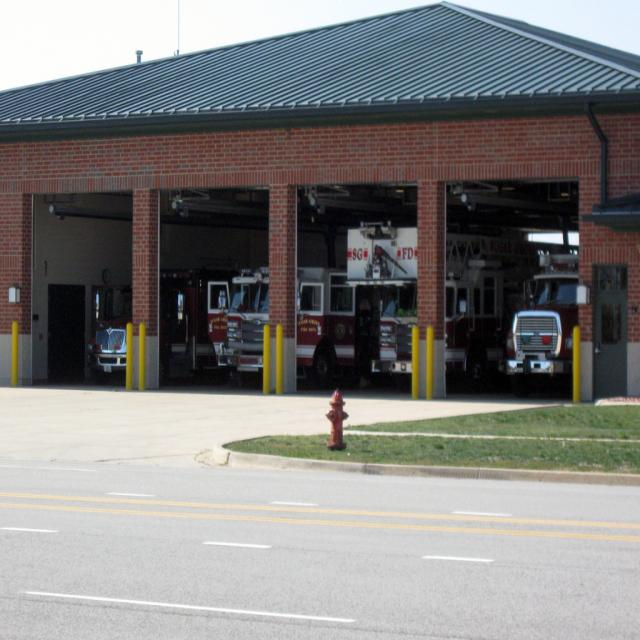no_fire: (9, 36, 640, 460)
